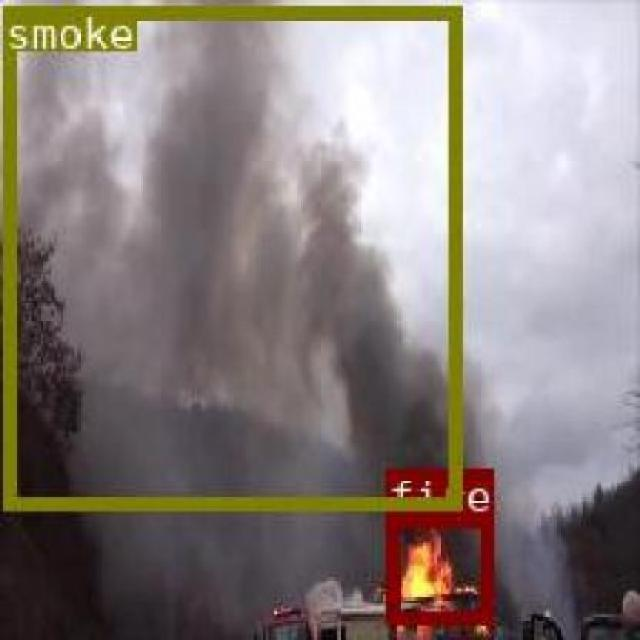Fire: (386, 514, 488, 623)
Smoke: (2, 4, 460, 507)
